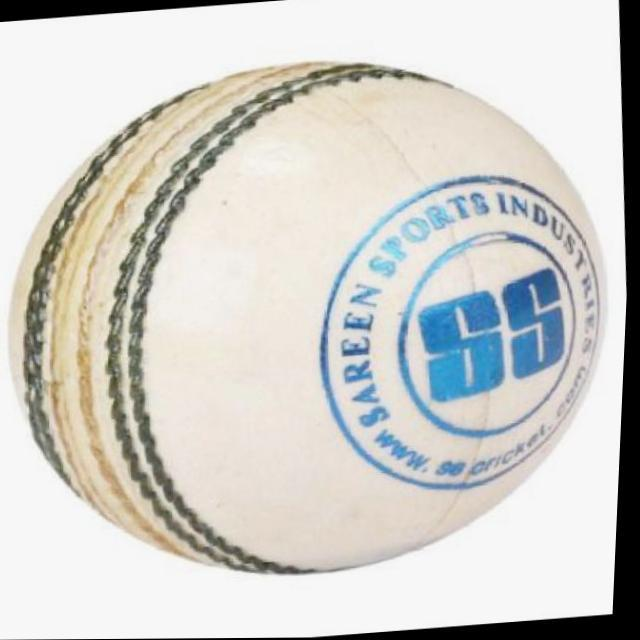-: (0, 76, 637, 577)
